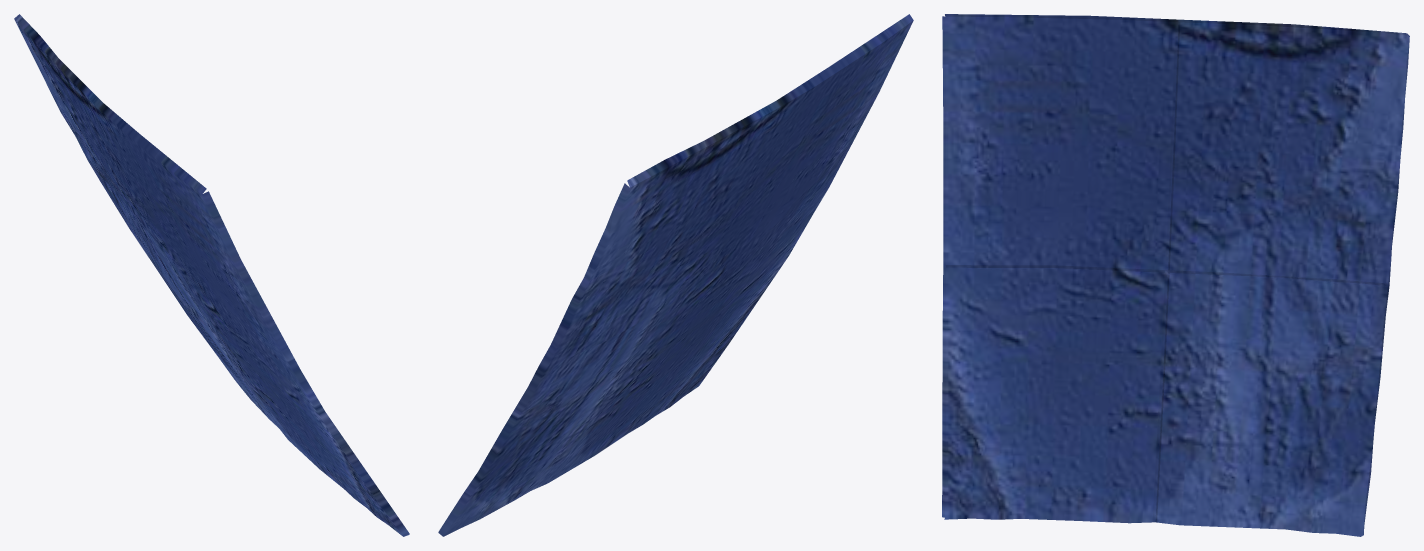
3 views of the same model, side by side, from view 1: azimuth 30°, elevation 25°; view 2: azimuth 150°, elevation 25°; view 3: azimuth 270°, elevation 25° (orthographic). The views are drawn at different scales.
Bounding box in the file's own units: 710969 × 1116677 × 1164315.
Materials: 1 (1 with a texture image).
